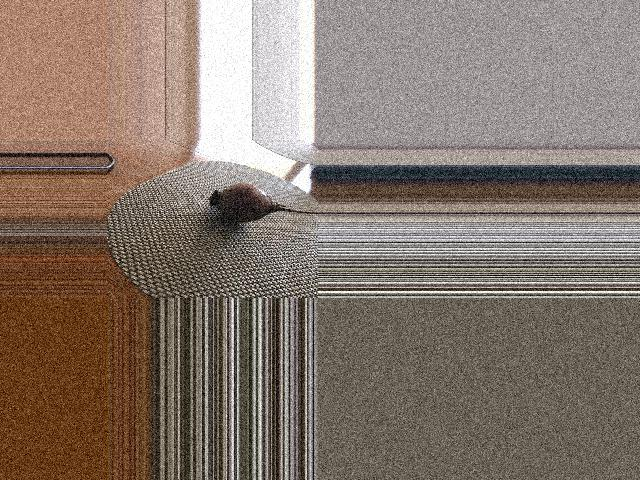beet: (209, 183, 317, 222)
